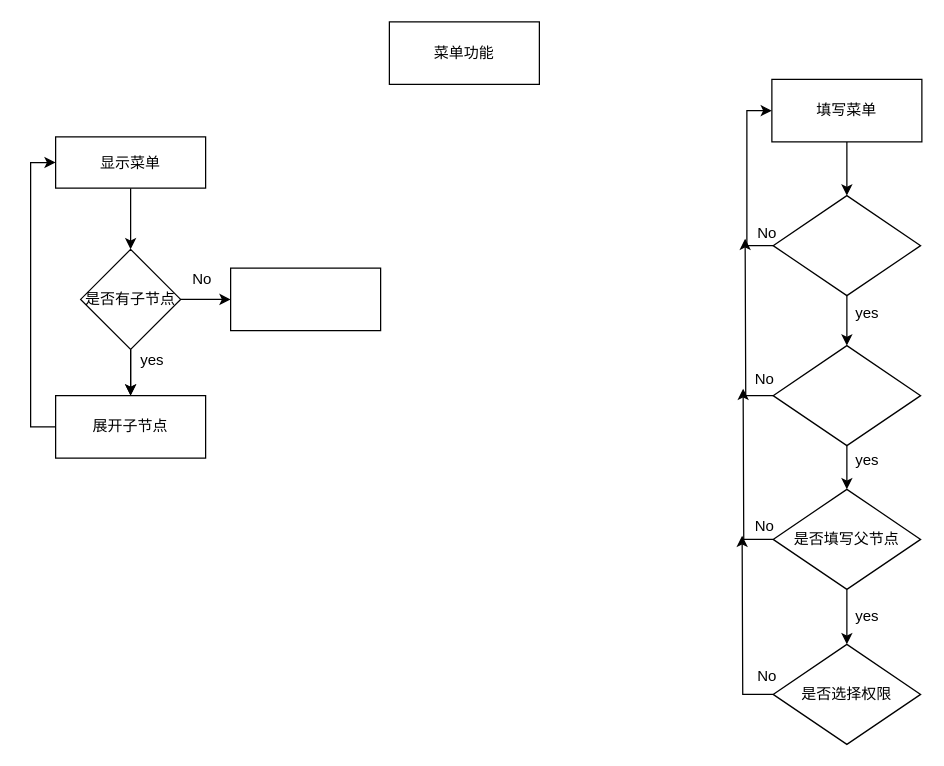
Image size: 944x766. Some labels were removed from this diagram. Here are the shapes that lost their labels. From the top down, the box of each, then its label:
(772, 194, 921, 296): 是否填写菜单名
(229, 267, 381, 331): 跳转对应链接
(772, 344, 921, 446): 是否填写地址
